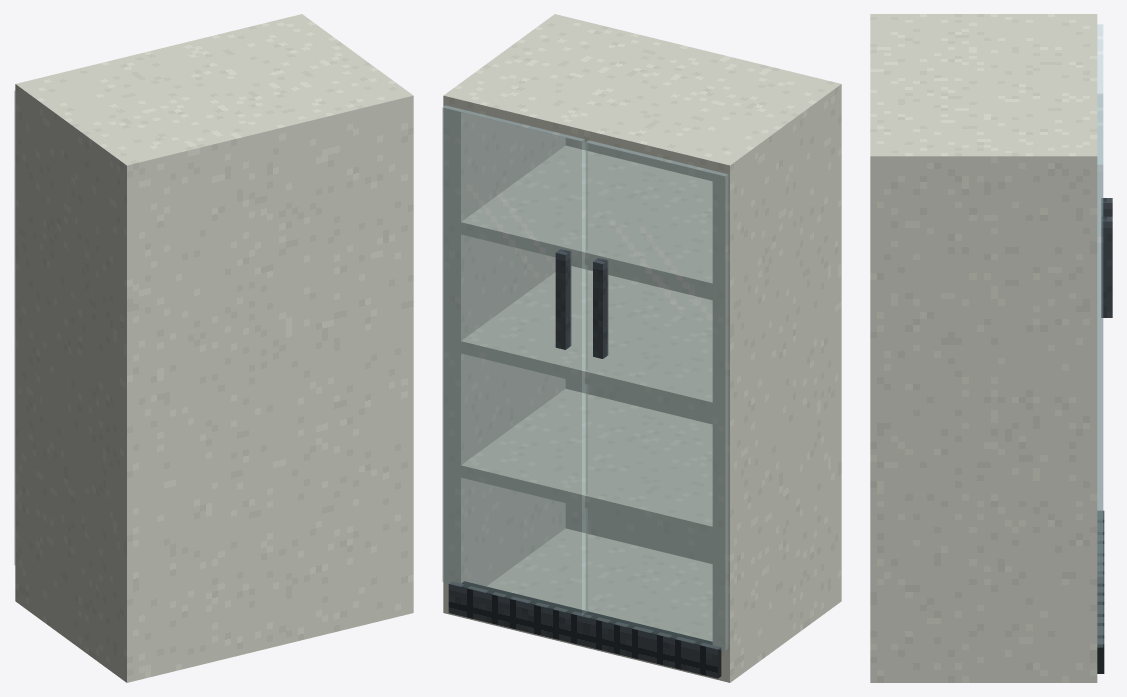
The model's file is f_glass_fridge_double.glb.
3 renders of one model, left to right at view 1: azimuth 30°, elevation 25°; view 2: azimuth 150°, elevation 25°; view 3: azimuth 270°, elevation 25°, orthographic.
Parts seen in each view (by area): view 1: block_back, block_side--0.45999999999999996, block_shelf-1, block_side-0.45999999999999996, block_door--0.245; view 2: block_door-0.245, block_door--0.245, block_side--0.45999999999999996, block_side-0.45999999999999996, block_shelf-1, block_shelf-2, block_shelf-4, block_shelf-3, block_shelf-0, block_back, block_vent-kickplate, block_pull-0.245 (+1 smaller); view 3: block_side-0.45999999999999996, block_shelf-1, block_back, block_door-0.245, block_door--0.245, block_side--0.45999999999999996, block_vent-kickplate, block_pull-0.245.
Boxes of the visible parts, x1,y1,x2,y2 form: block_back: (120, 90, 413, 682); block_side--0.45999999999999996: (15, 79, 136, 677); block_shelf-1: (33, 18, 388, 156); block_side-0.45999999999999996: (285, 14, 406, 94); block_door--0.245: (14, 90, 15, 564); block_door-0.245: (442, 105, 587, 615); block_door--0.245: (585, 140, 728, 650); block_side--0.45999999999999996: (712, 84, 834, 682); block_side-0.45999999999999996: (443, 19, 565, 617); block_shelf-1: (461, 23, 816, 173); block_shelf-2: (461, 389, 712, 538); block_shelf-4: (461, 145, 712, 295); block_shelf-3: (461, 266, 712, 414); block_shelf-0: (461, 528, 712, 678); block_back: (548, 14, 841, 605); block_vent-kickplate: (448, 581, 721, 678); block_pull-0.245: (555, 248, 571, 349); block_side-0.45999999999999996: (884, 147, 1097, 682); block_shelf-1: (884, 22, 1097, 147); block_back: (870, 14, 883, 682); block_door-0.245: (1097, 95, 1103, 647); block_door--0.245: (1097, 24, 1103, 576); block_side--0.45999999999999996: (884, 14, 1097, 22); block_vent-kickplate: (1097, 510, 1104, 673); block_pull-0.245: (1101, 216, 1112, 317).
Size of the model in its own units: 0.98 by 1.69 by 0.7045.
Materials: 2 (2 with a texture image).
